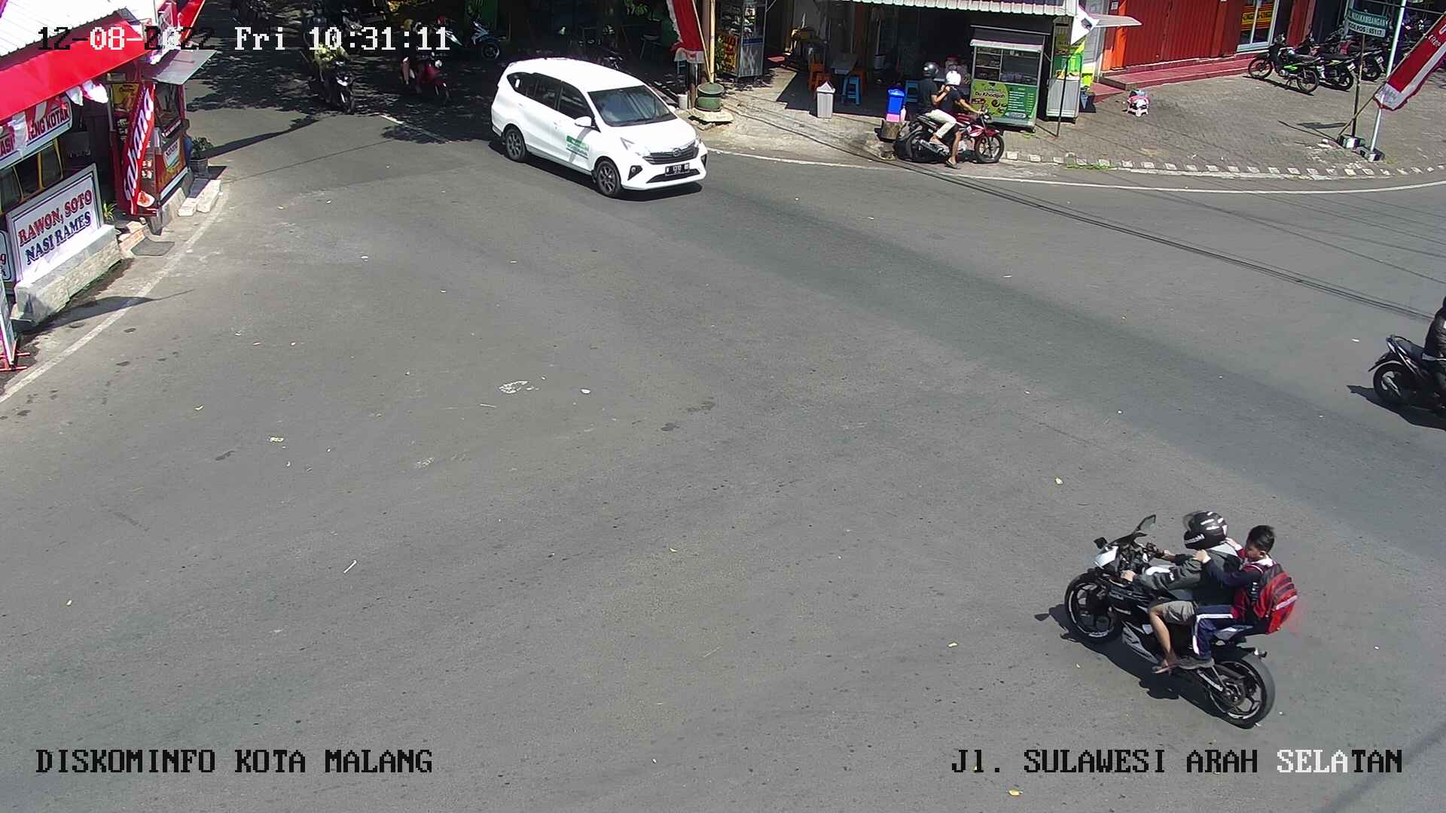with_helmet: (894, 59, 1008, 170)
without_helmet: (1048, 495, 1310, 735)
